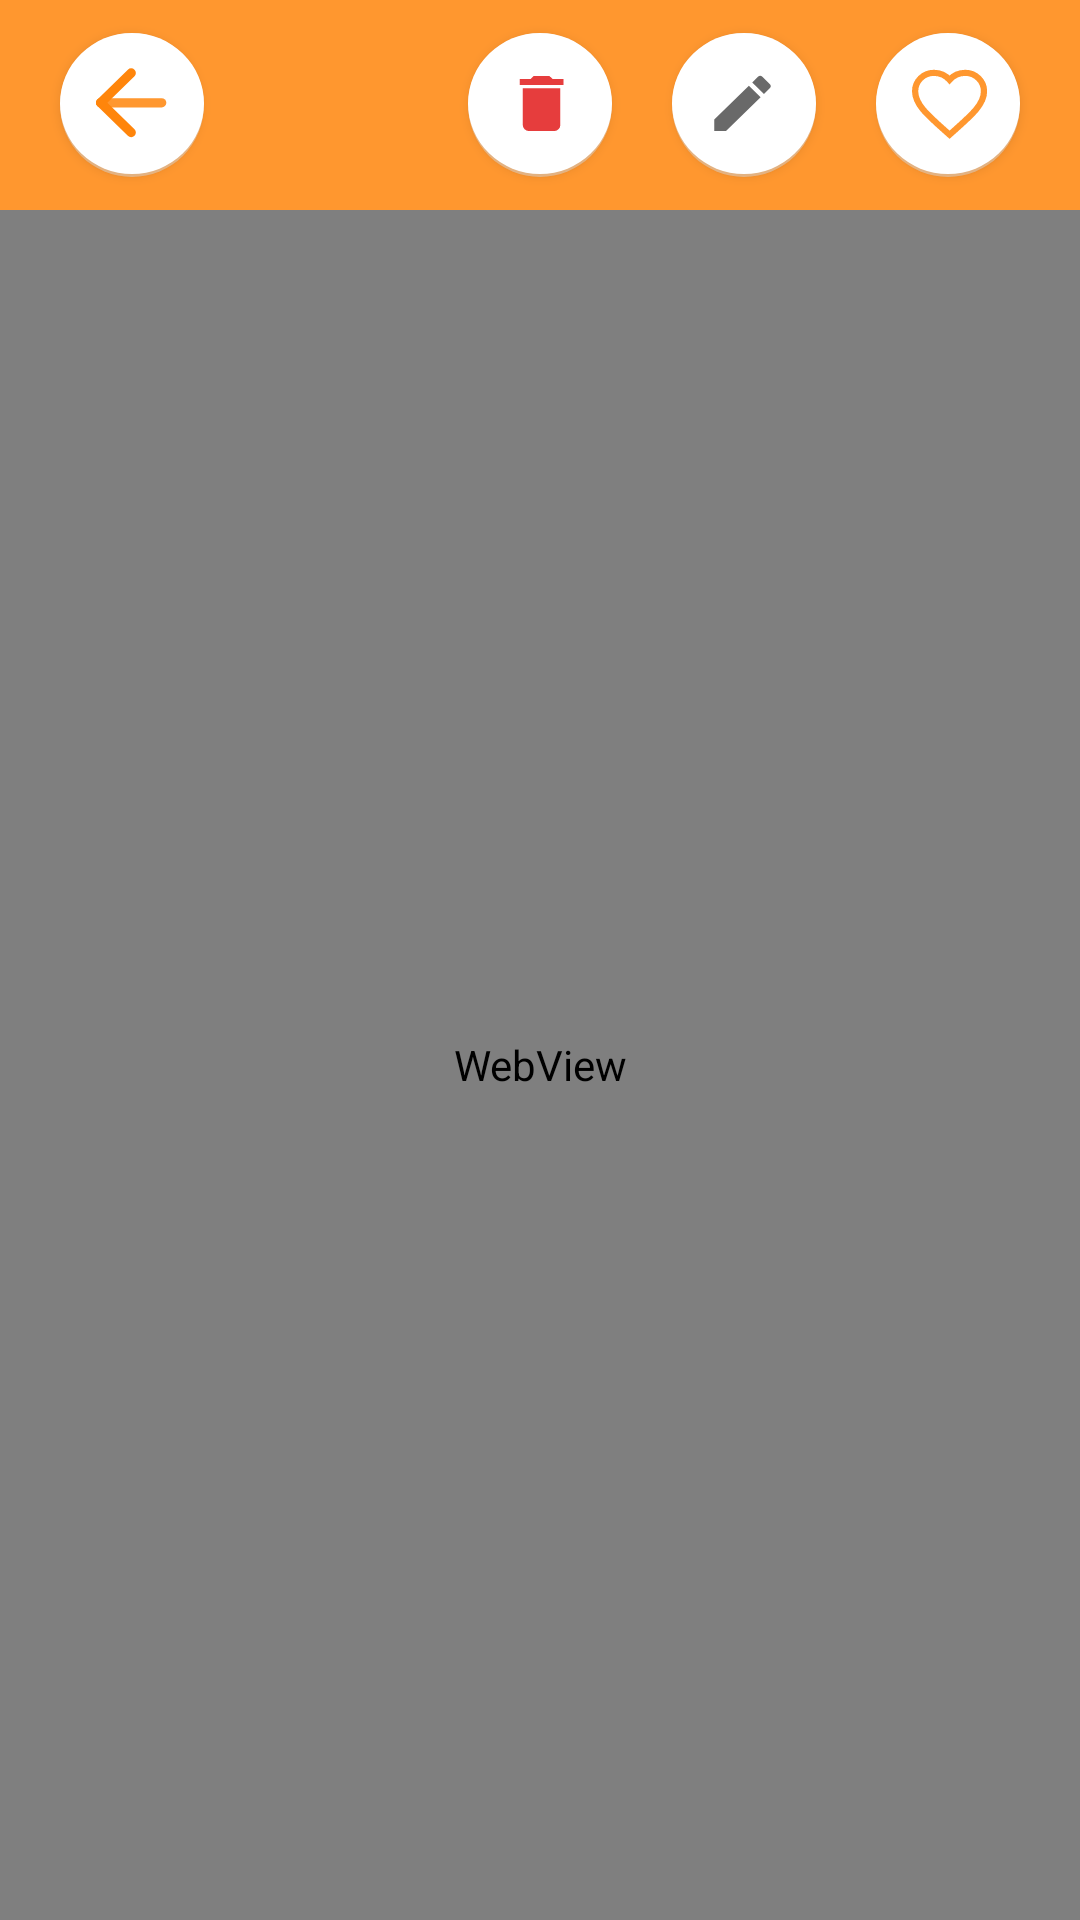

Screen size 1080 × 1920. Icon name, then its box in pixels as (x1, y1, x2, y2):
back: (60, 33, 204, 177)
delete: (468, 33, 612, 177)
edit: (672, 33, 816, 177)
heart: (876, 33, 1020, 177)
